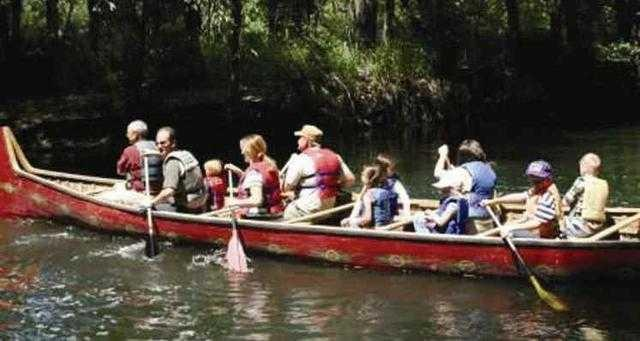kayak: (8, 174, 633, 283)
